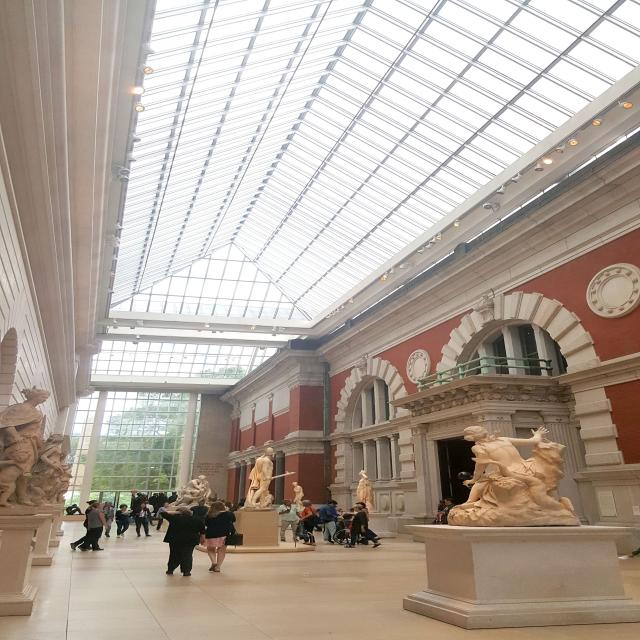body: (0, 385, 85, 515), (451, 424, 567, 514), (158, 506, 208, 576), (198, 501, 244, 572), (244, 446, 274, 509), (343, 504, 382, 548), (68, 499, 100, 551), (78, 502, 108, 551), (171, 473, 212, 506), (276, 499, 303, 542), (341, 514, 383, 540), (298, 499, 321, 546), (319, 500, 342, 545), (355, 469, 377, 509), (188, 500, 211, 538), (131, 490, 172, 511), (322, 500, 342, 543), (112, 503, 134, 538), (131, 502, 152, 538), (349, 507, 369, 543), (612, 541, 640, 561), (436, 498, 456, 525), (228, 502, 246, 530), (102, 501, 115, 537), (354, 502, 370, 528), (155, 502, 169, 530), (290, 481, 304, 506), (143, 500, 155, 526), (313, 508, 326, 532), (336, 507, 344, 530), (437, 500, 447, 512), (223, 501, 233, 512), (238, 501, 246, 509), (217, 498, 224, 502)
